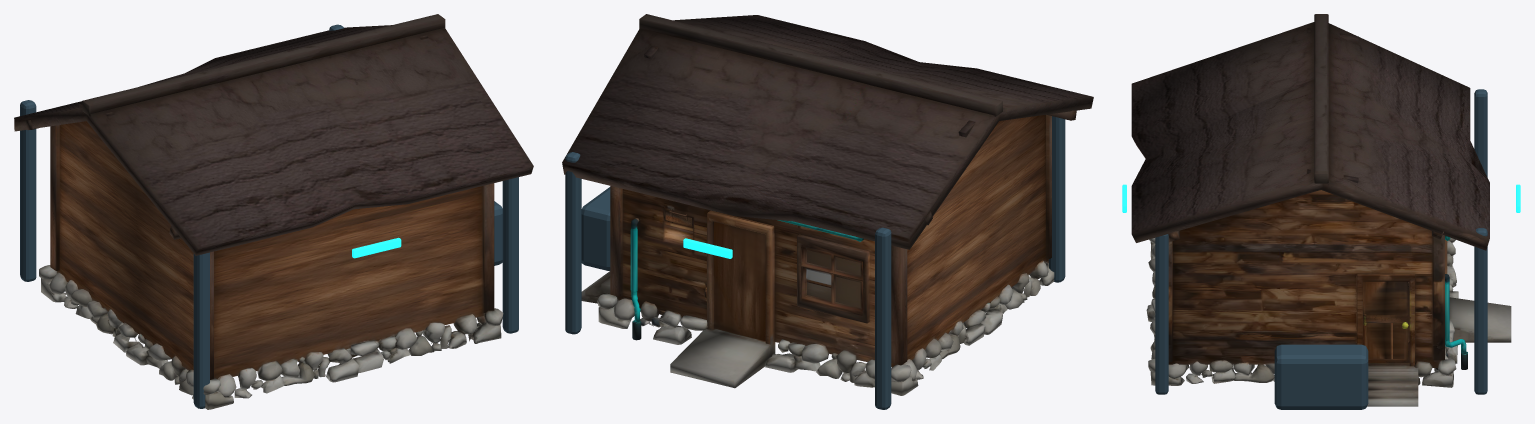
File: stage-1-lv2.glb
The picture shows the model from 3 angles, left to right: view 1: azimuth 30°, elevation 25°; view 2: azimuth 150°, elevation 25°; view 3: azimuth 270°, elevation 25°; orthographic projection. The views are drawn at different scales.
Parts seen in each view (by area): view 1: tripo_node_090bf2b8-ffb3-42c9-9c9e-4cc50317c1fc, Lv2 corner reinforcement.001, Lv2 corner reinforcement.002, Lv2 corner reinforcement, Lv2 east power module, Lv2 portal lamp; view 2: tripo_node_090bf2b8-ffb3-42c9-9c9e-4cc50317c1fc, Lv2 corner reinforcement.001, Lv2 corner reinforcement.003, Lv2 corner reinforcement, Lv2 east power module, Lv2 portal lamp.001; view 3: tripo_node_090bf2b8-ffb3-42c9-9c9e-4cc50317c1fc, Lv2 east power module, Lv2 corner reinforcement.002, Lv2 corner reinforcement.003, Lv2 corner reinforcement.001.
Part boxes in pixels (x1,y1,x2,y2): tripo_node_090bf2b8-ffb3-42c9-9c9e-4cc50317c1fc: (14,14,533,409); Lv2 corner reinforcement.001: (20,100,36,281); Lv2 corner reinforcement.002: (502,177,518,333); Lv2 corner reinforcement: (193,252,209,408); Lv2 east power module: (494,201,502,265); Lv2 portal lamp: (352,237,401,258); tripo_node_090bf2b8-ffb3-42c9-9c9e-4cc50317c1fc: (562,14,1093,395); Lv2 corner reinforcement.001: (875,227,891,409); Lv2 corner reinforcement.003: (565,152,581,334); Lv2 corner reinforcement: (1049,116,1065,282); Lv2 east power module: (581,187,610,270); Lv2 portal lamp.001: (683,238,732,258); tripo_node_090bf2b8-ffb3-42c9-9c9e-4cc50317c1fc: (1131,14,1511,406); Lv2 east power module: (1274,344,1368,409); Lv2 corner reinforcement.002: (1155,234,1168,394); Lv2 corner reinforcement.003: (1474,228,1487,394); Lv2 corner reinforcement.001: (1474,89,1487,177).
Size of the model in its own units: 3.34 by 2 by 3.17.
Materials: 3 (1 with a texture image).
